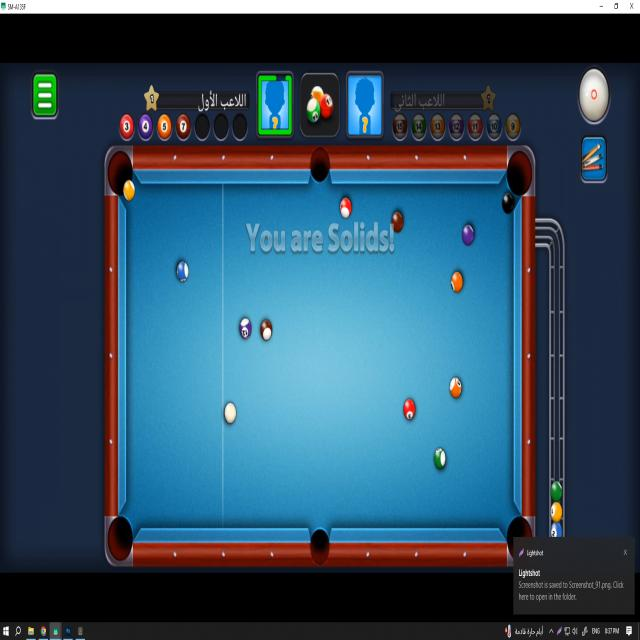object_ball: (176, 260, 189, 282), (392, 211, 404, 233), (502, 192, 514, 213), (450, 377, 461, 398), (404, 399, 415, 420), (240, 318, 251, 339), (434, 448, 445, 469), (463, 224, 474, 245), (123, 180, 134, 200), (261, 320, 272, 340), (451, 272, 462, 292), (340, 198, 351, 218)
white_cue_ball: (224, 403, 236, 424)
